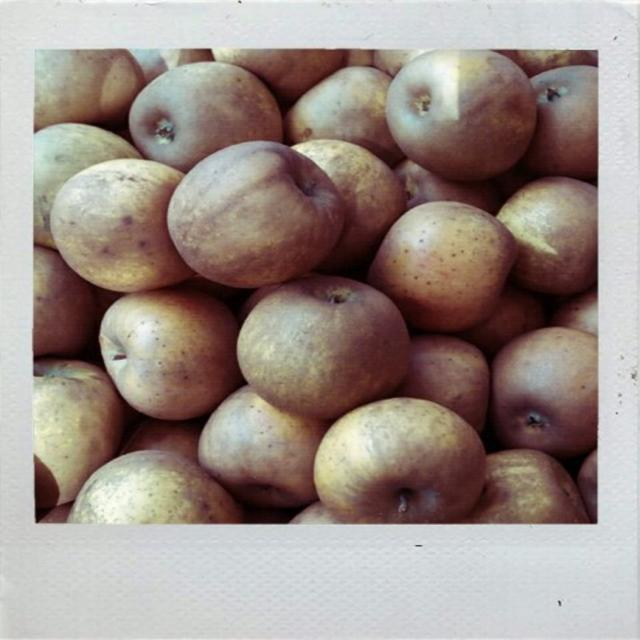Non_Gorille: (0, 0, 630, 640)
